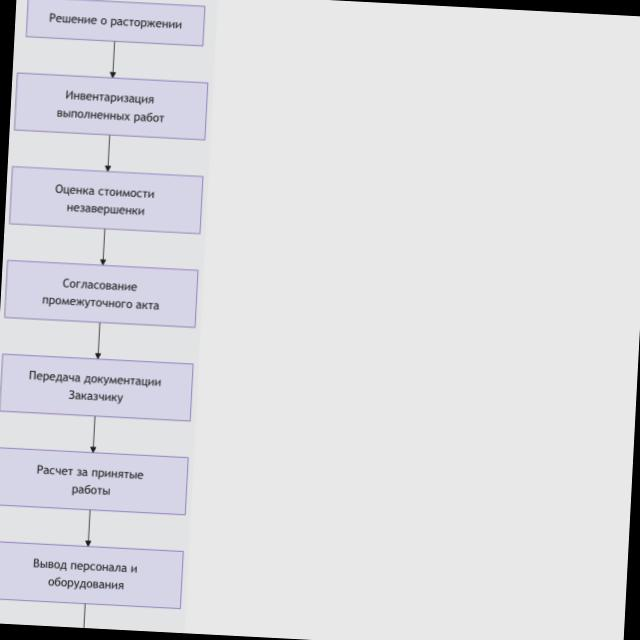arrow: (96, 323, 102, 359), (90, 417, 96, 452), (86, 510, 91, 546), (101, 230, 106, 265), (111, 42, 116, 77), (106, 136, 111, 171)
rectangle: (0, 354, 192, 421), (15, 73, 207, 140), (10, 167, 203, 233), (5, 261, 197, 327), (0, 448, 187, 514), (0, 543, 183, 609), (26, 0, 205, 46)
